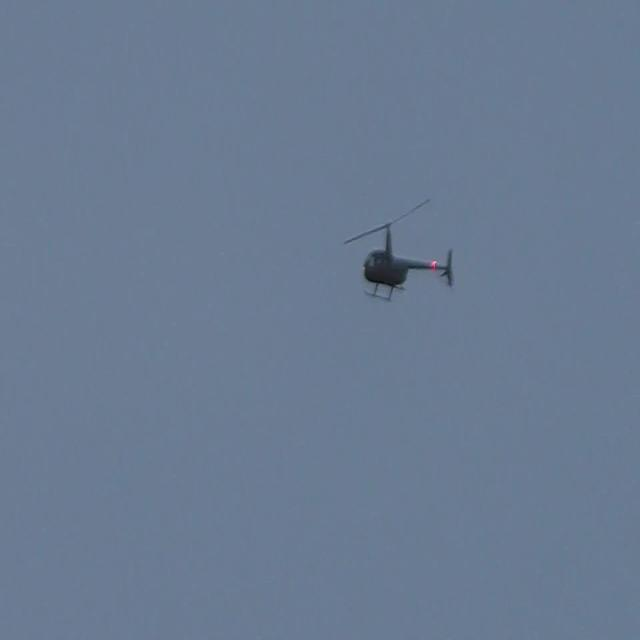CIV_HELO: (363, 223, 454, 304)
